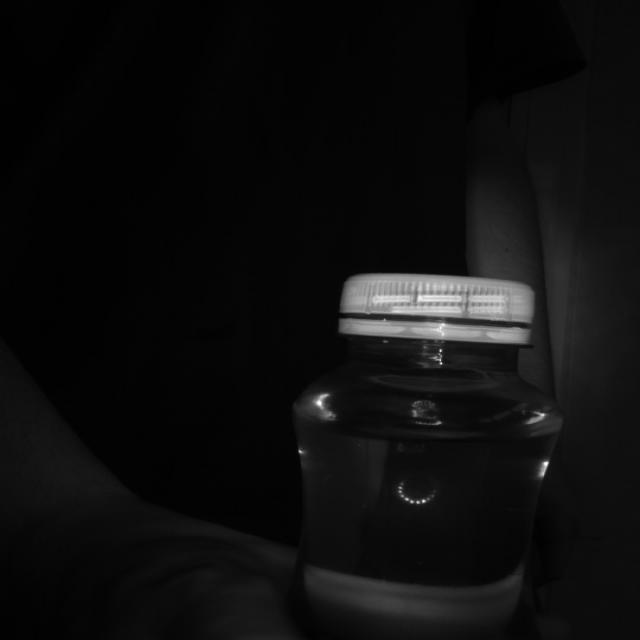Not Good: (341, 272, 530, 344)
